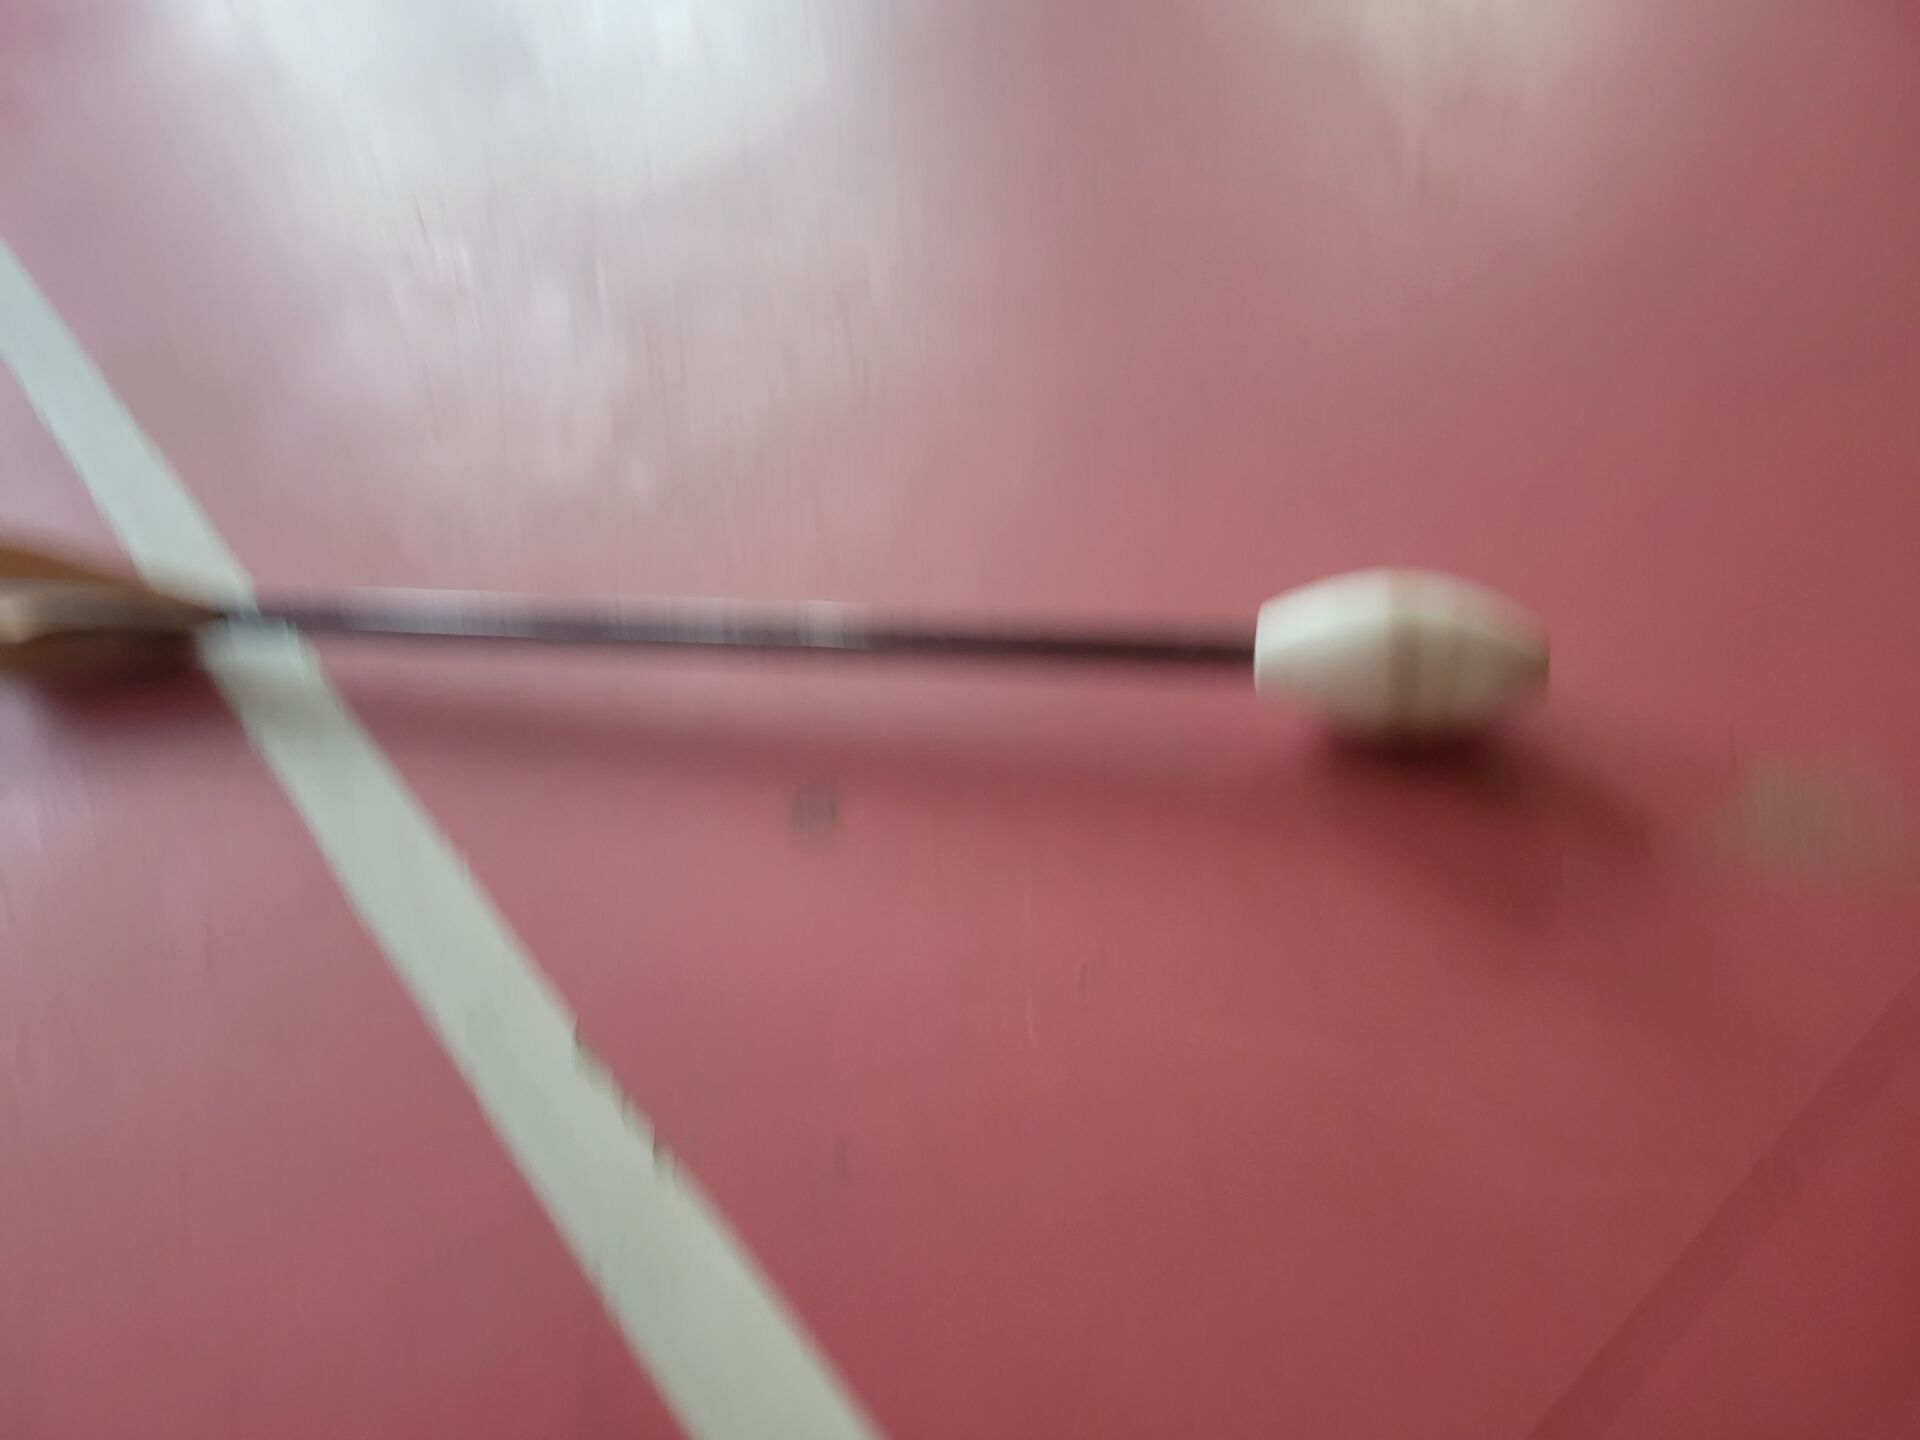arrow: (2, 535, 1548, 737)
arrowFront: (1243, 567, 1547, 734)
